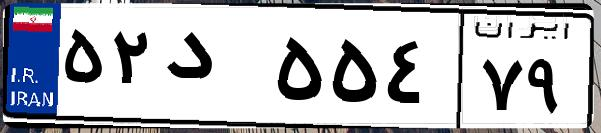2: (110, 28, 158, 98)
4: (385, 28, 445, 110)
5: (270, 28, 330, 110), (330, 28, 385, 110), (57, 26, 110, 100)
7: (475, 38, 525, 113)
9: (525, 38, 570, 115)
د: (158, 20, 270, 120)
